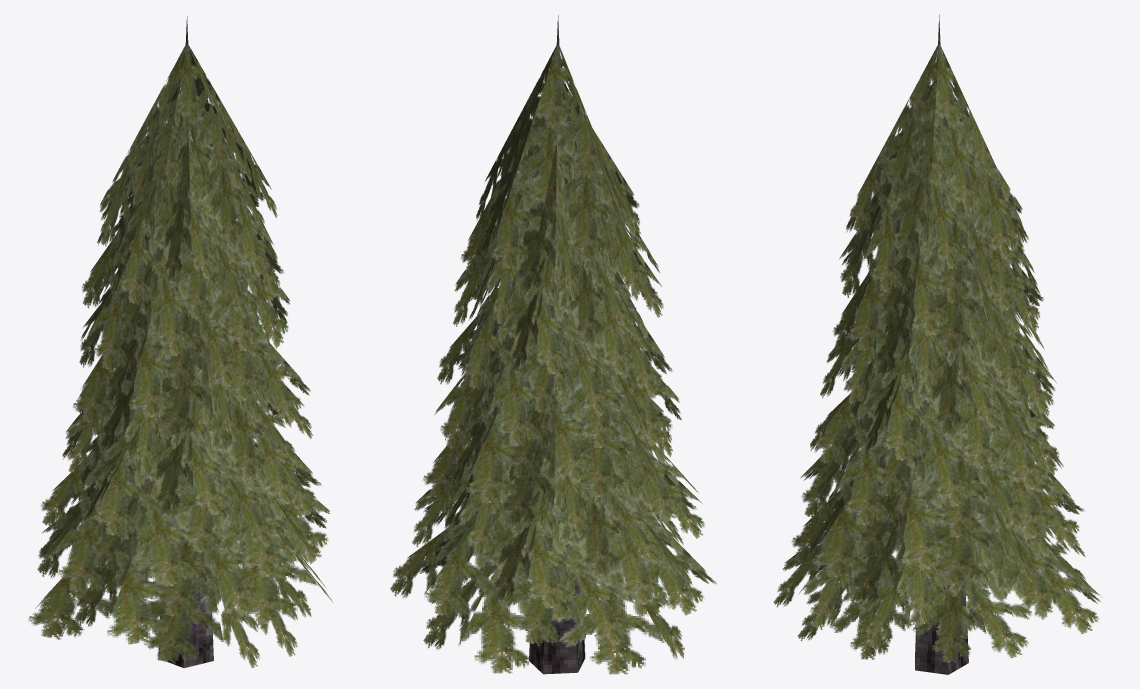
Rendered from fir_tree.glb.
3 views of the same model, side by side, from view 1: azimuth 30°, elevation 25°; view 2: azimuth 150°, elevation 25°; view 3: azimuth 270°, elevation 25° (orthographic).
Parts seen in each view (by area): view 1: Fir Tree; view 2: Fir Tree; view 3: Fir Tree.
Part boxes in pixels (<box>): Fir Tree: <box>28,16,333,667</box>; Fir Tree: <box>390,15,717,674</box>; Fir Tree: <box>773,14,1102,674</box>.
Bounding box in the file's own units: 5.76 × 12 × 6.15.
2 materials, 2 textured.
